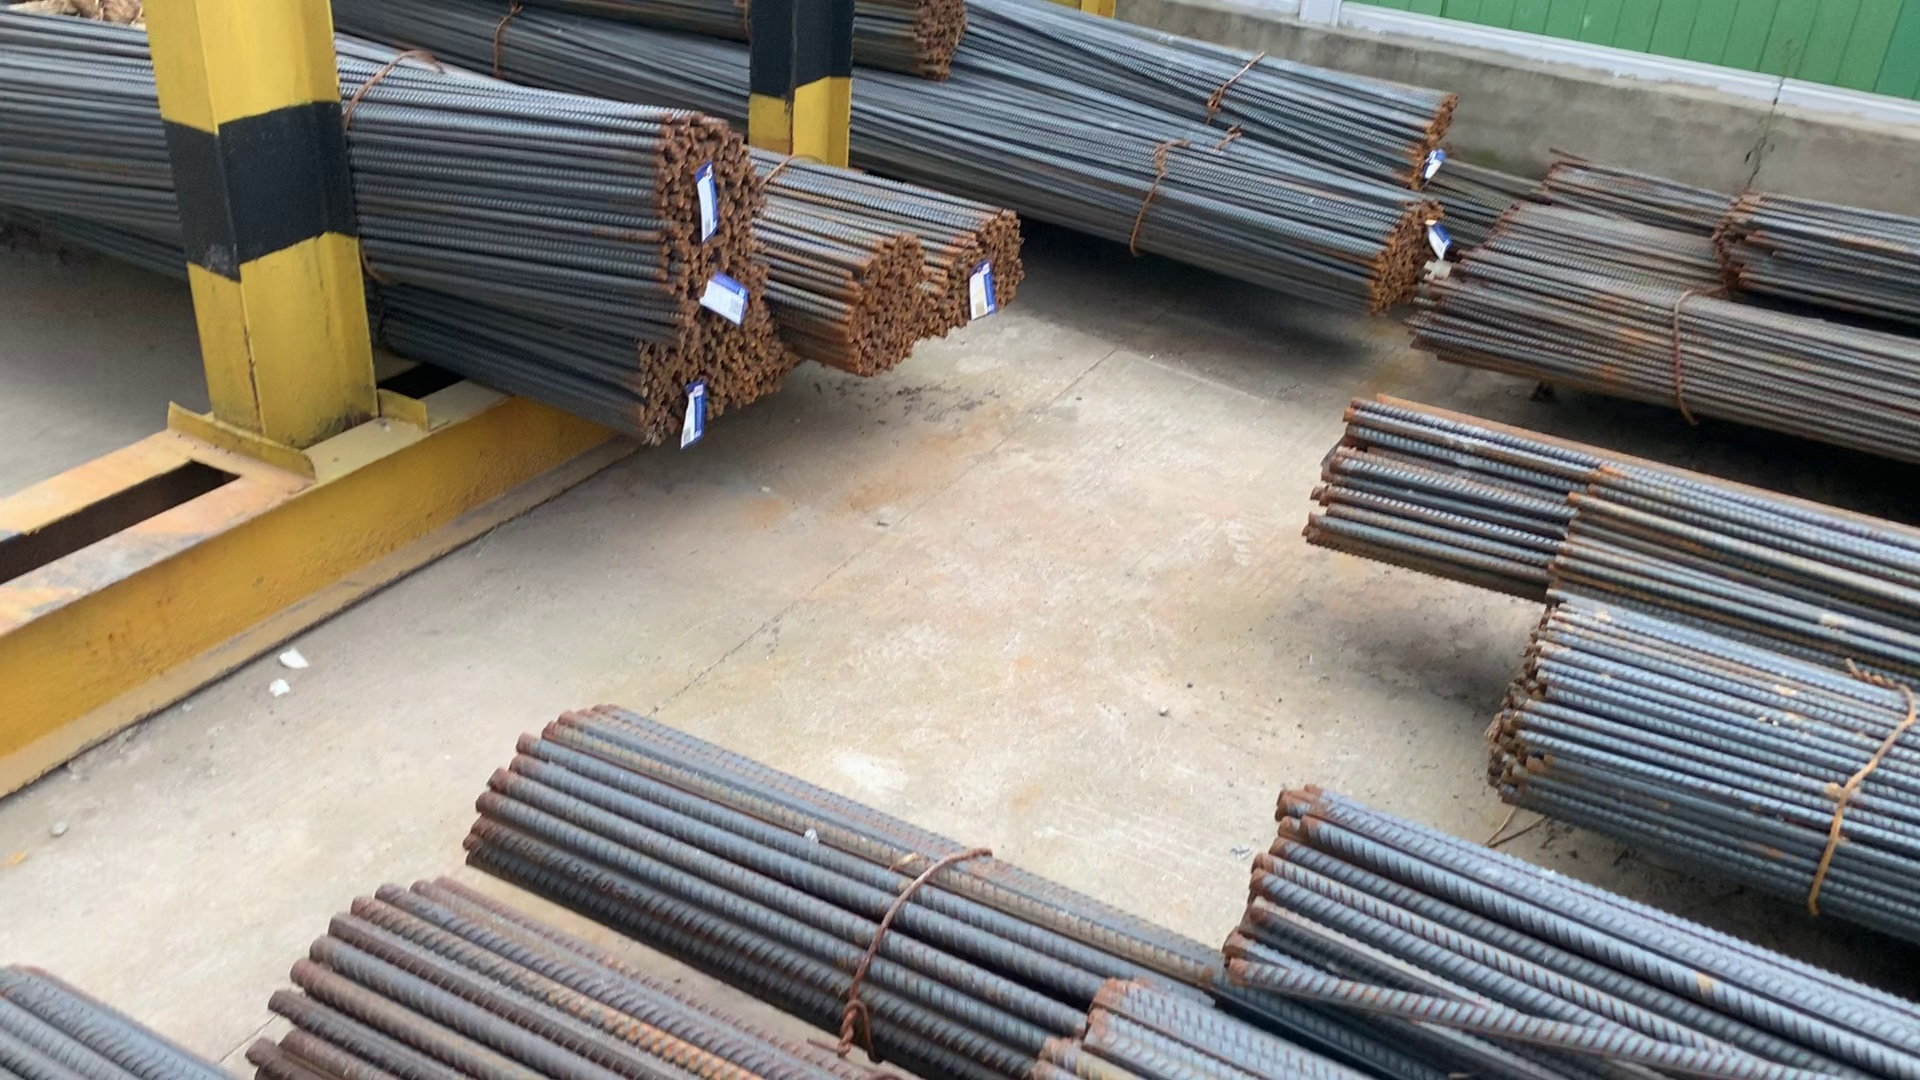rebar: (646, 305, 796, 448), (649, 127, 771, 287), (837, 237, 923, 373), (928, 210, 1025, 327), (1371, 202, 1441, 323), (1410, 84, 1453, 189)
